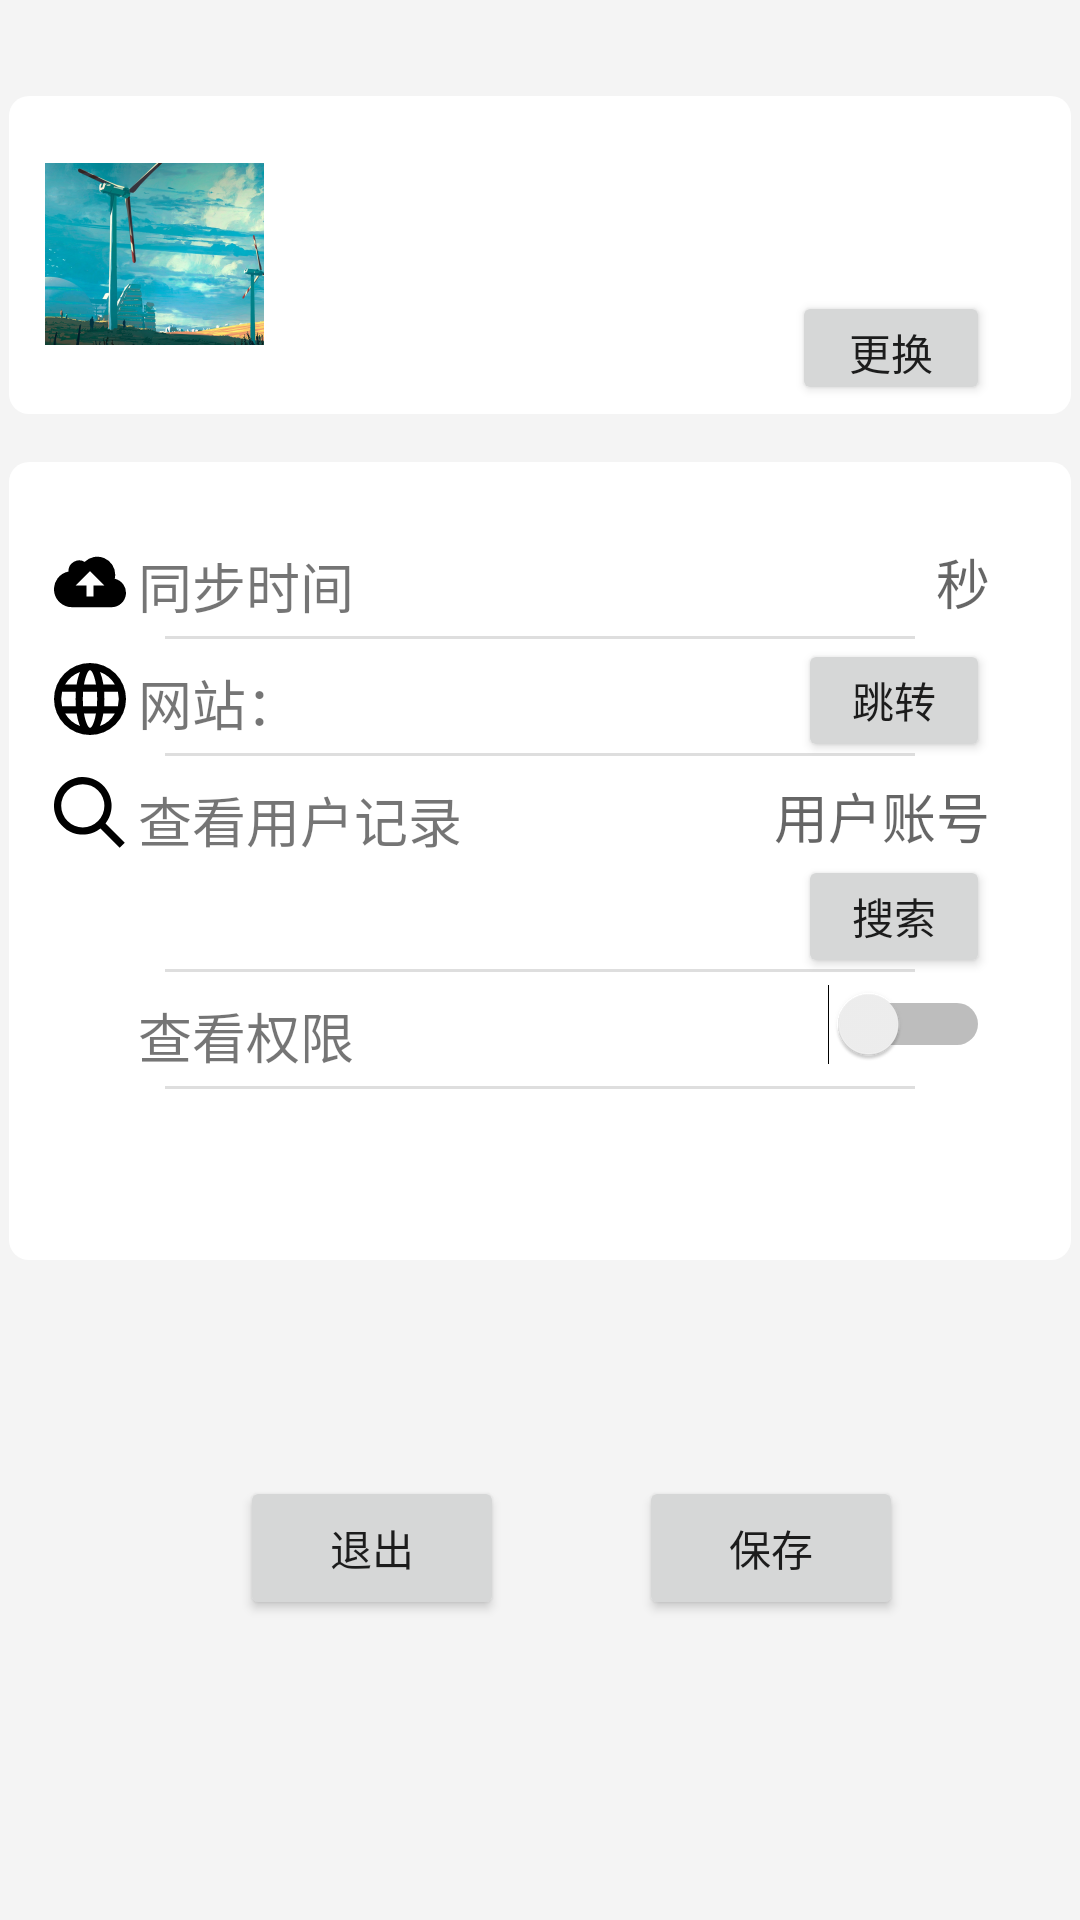

Screen size 1080 x 1920. Icon name, then its box in pixels as (x1, y1, x2, y2):
cloud upload: (54, 556, 126, 608)
